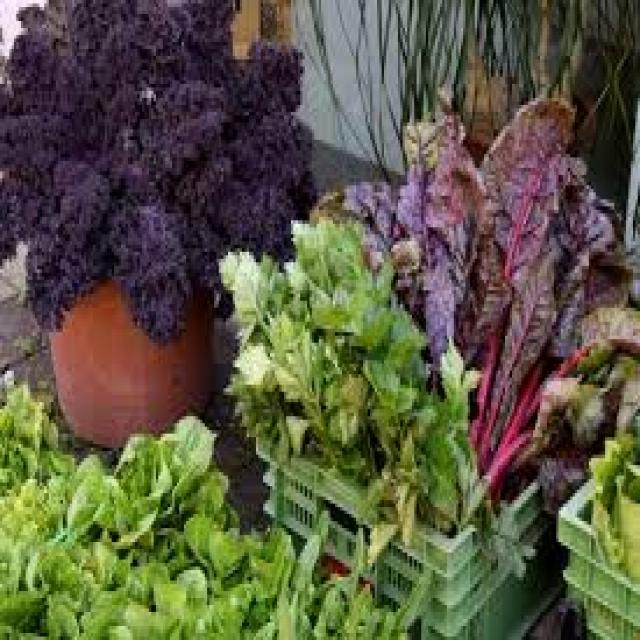organic waste: (0, 0, 314, 336), (309, 81, 482, 444), (474, 154, 638, 479), (288, 210, 452, 531), (37, 423, 247, 637), (468, 91, 570, 504), (219, 245, 330, 458), (226, 518, 407, 636), (0, 363, 74, 636), (431, 332, 484, 507), (584, 423, 638, 581), (538, 381, 605, 455), (588, 301, 638, 364), (526, 594, 582, 636), (540, 454, 577, 504), (363, 518, 389, 563)
